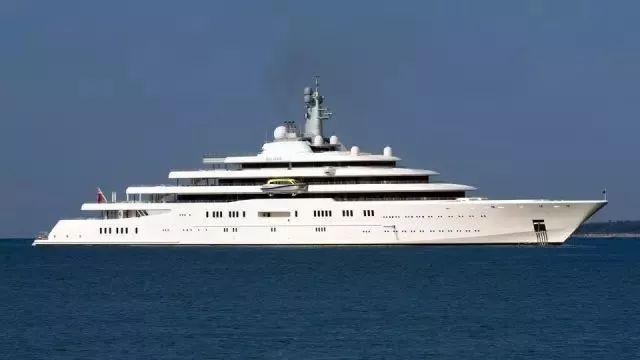yacht: (26, 83, 627, 249)
